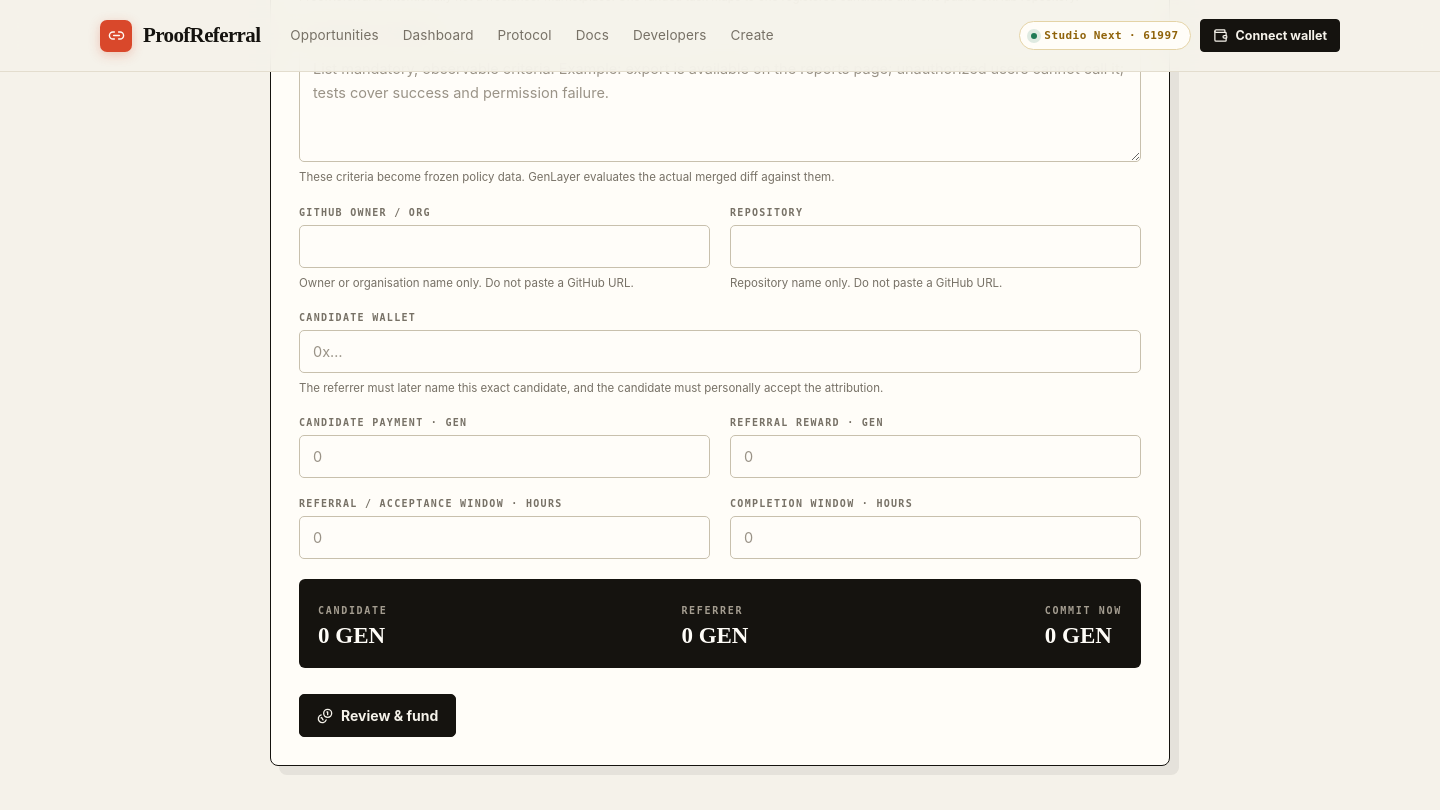
Test: NewOpportunity form validation › requires an employer wallet on the right network
The width and height of the screenshot is (1440, 810).
(page scrolled)
Click the button "Review & fund".
click(378, 716)  # box [299, 694, 456, 737]
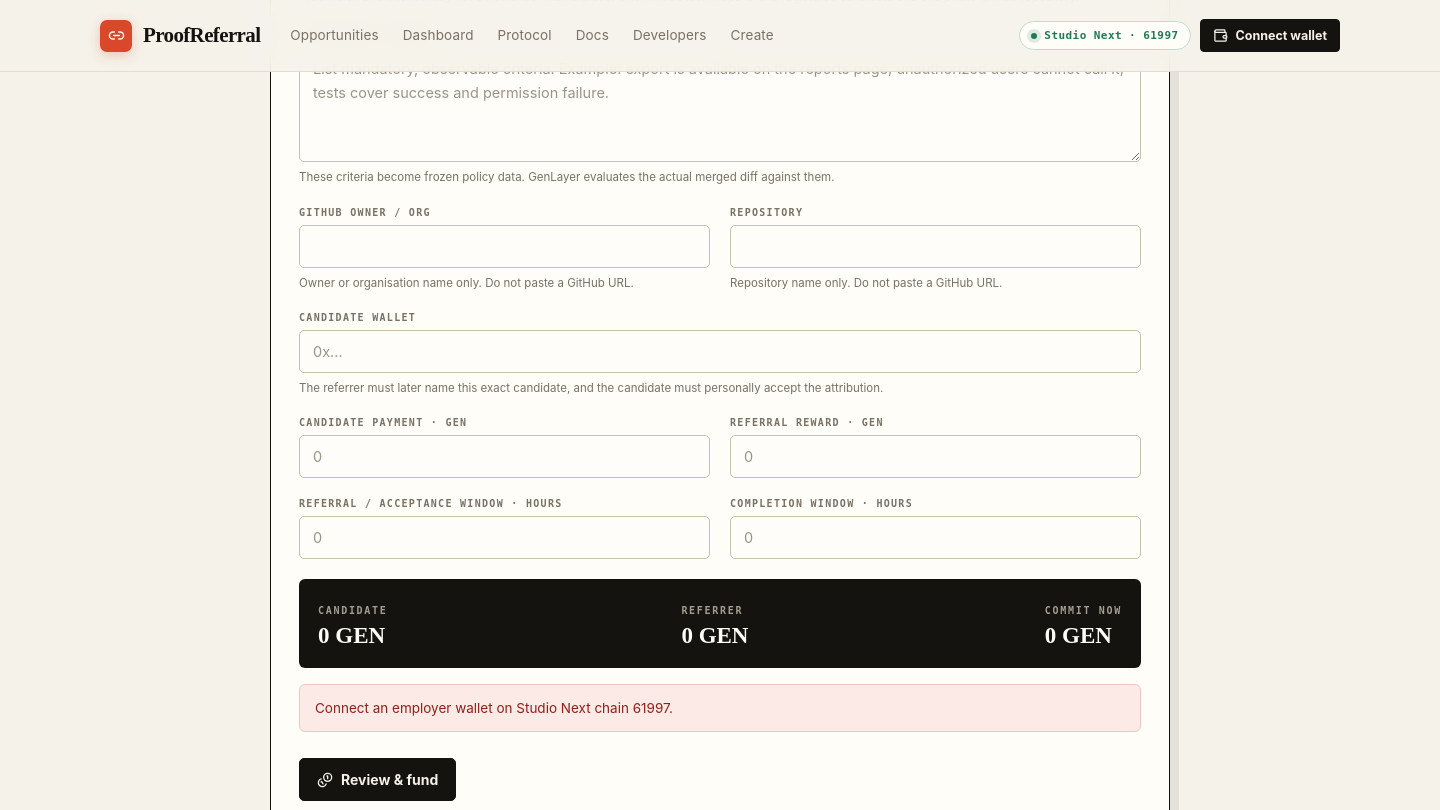
Result: the text "Connect an employer wallet on Studio Next chain 61997." is shown at [299, 684, 1141, 732]
